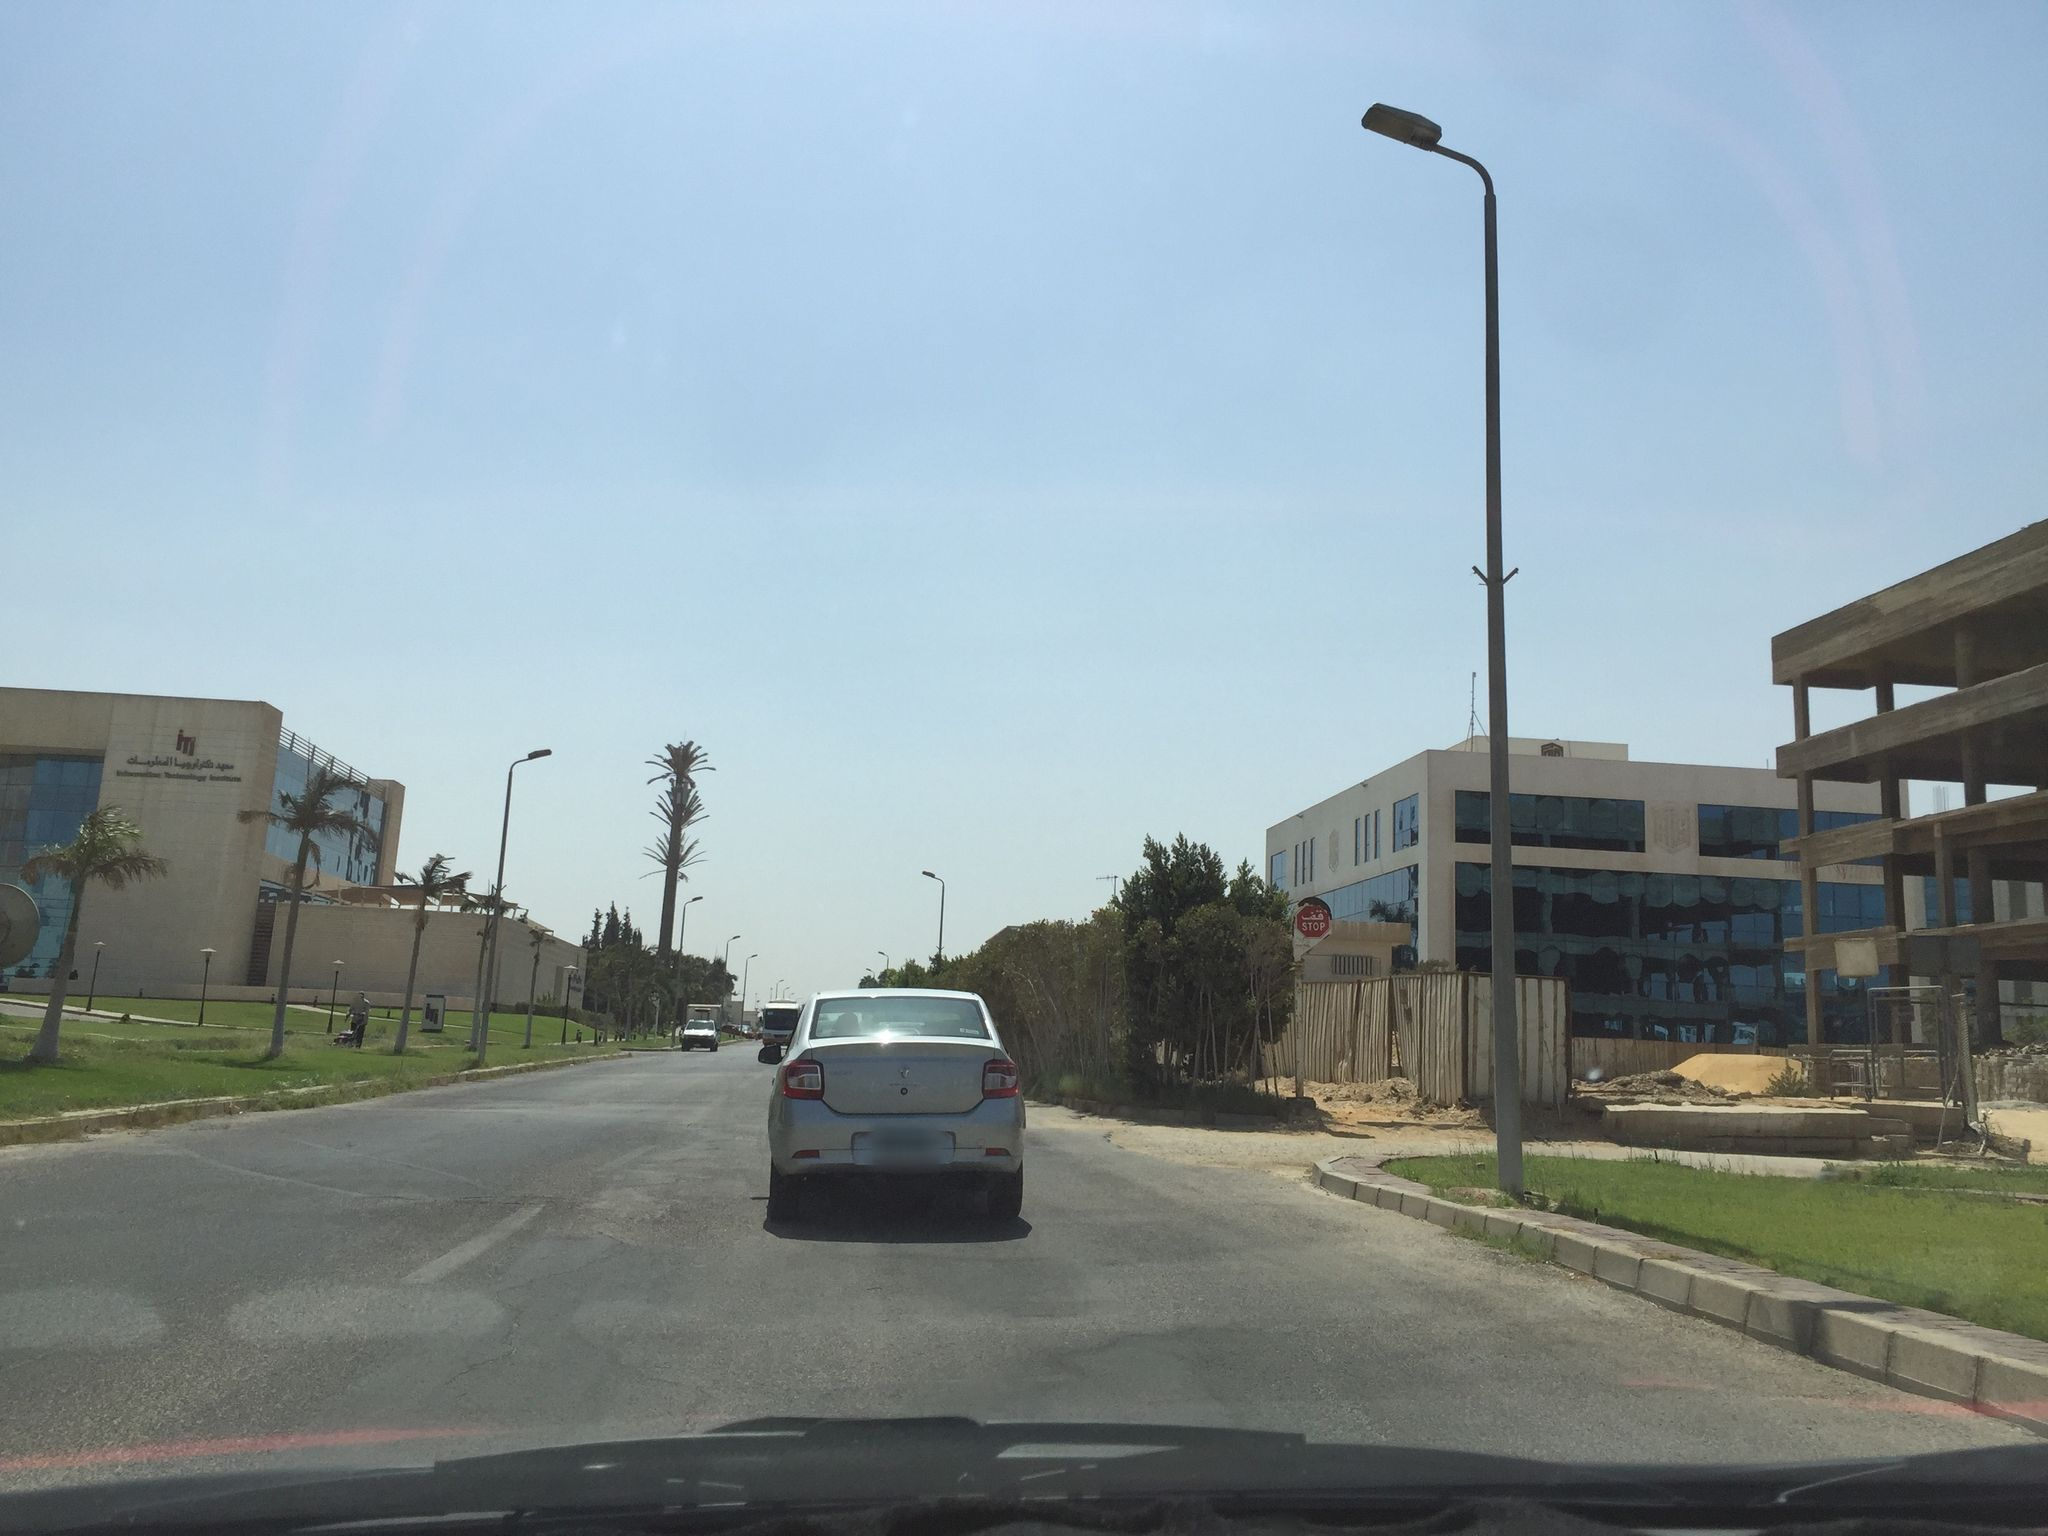bus: (760, 997, 801, 1049)
car: (756, 986, 1030, 1221)
truck: (681, 1004, 722, 1052)
